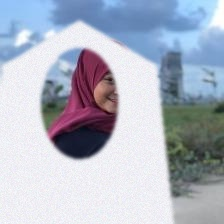Mukena: (0, 20, 175, 224)
